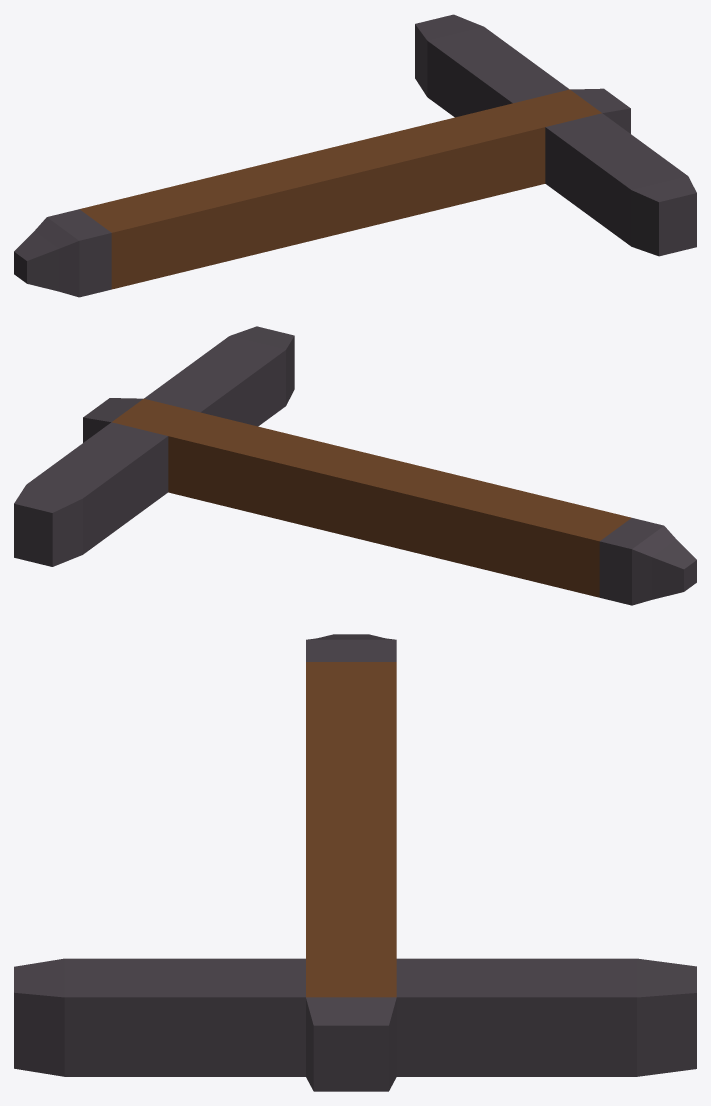
File: Tool.fbx
3 views of the same model, one above another, from view 1: azimuth 30°, elevation 25°; view 2: azimuth 150°, elevation 25°; view 3: azimuth 270°, elevation 25° (orthographic). The views are drawn at different scales.
Visible parts, largest first — view 1: Cube.002; view 2: Cube.002; view 3: Cube.002.
Boxes of the visible parts, <box> form: Cube.002: <box>14,14,696,297</box>; Cube.002: <box>14,326,696,605</box>; Cube.002: <box>14,634,696,1091</box>.
Bounding box in the file's own units: 1.37 × 0.1242 × 0.9678.
